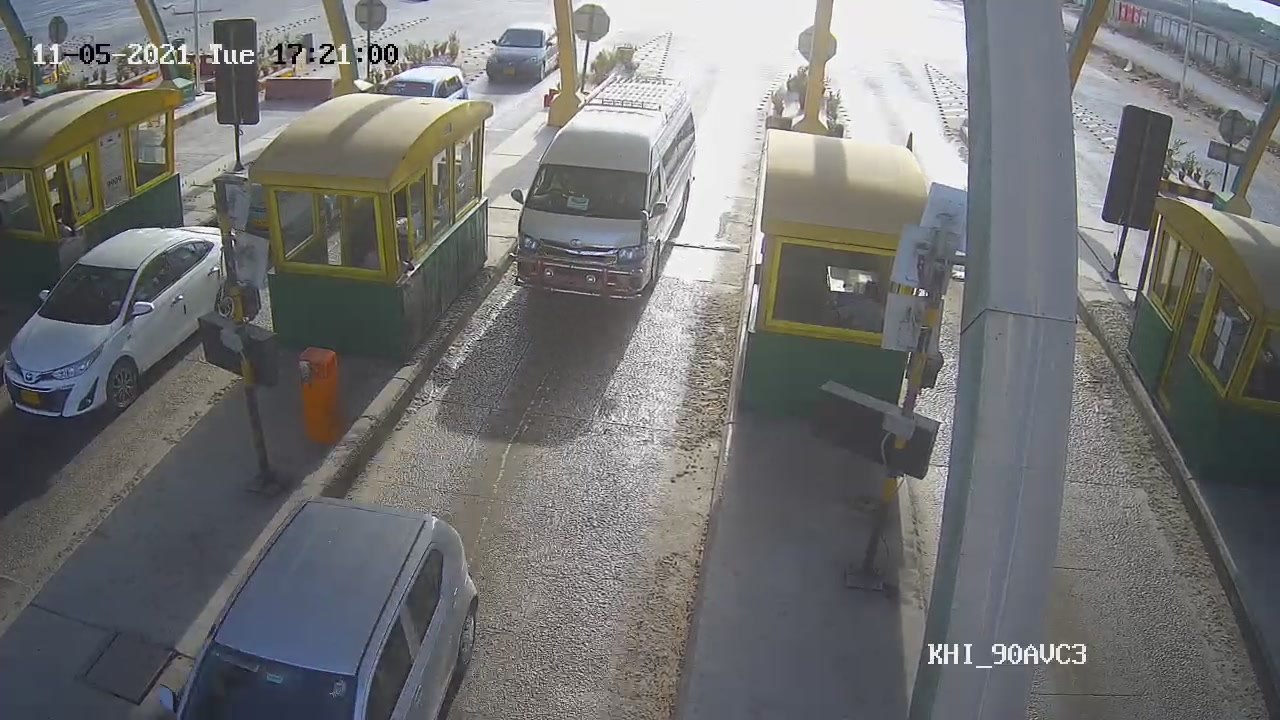F2: (505, 74, 703, 302)
